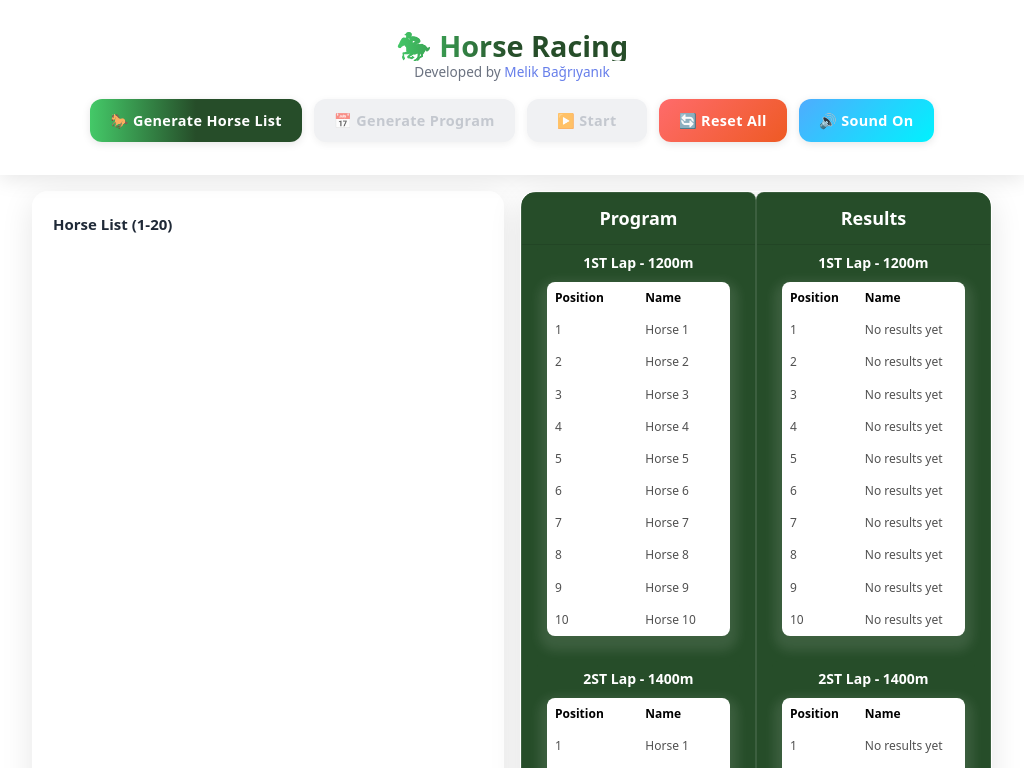
Scenario: Horse Racing E2E Testleri › At Listesi Oluşturma › atlar doğru bilgilerle oluşturulmalı
This screenshot has width=1024, height=768.
Click the button "🐎 Generate Horse List": click(197, 121) [91, 99, 302, 142]
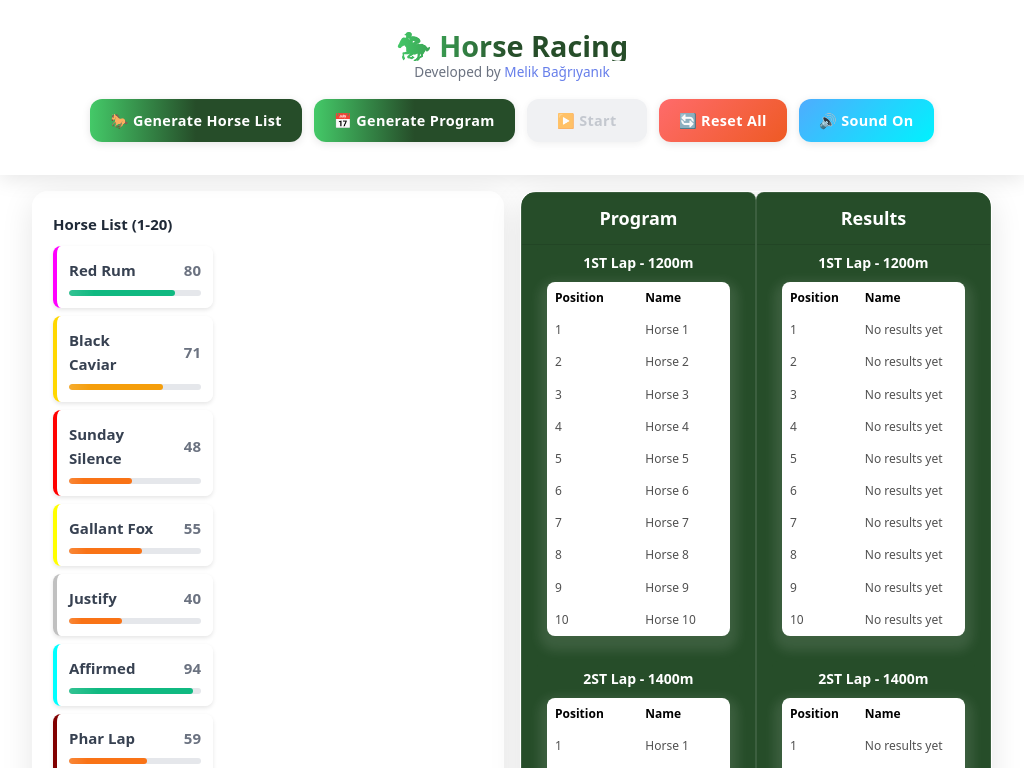
Expected: the text "Red Rum" is shown, [69, 260, 136, 280]
Expected: the text with class "horse-condition" shows at least "40", [184, 260, 201, 280]
Expected: the text with class "horse-condition" shows at most "100", [184, 260, 201, 280]
